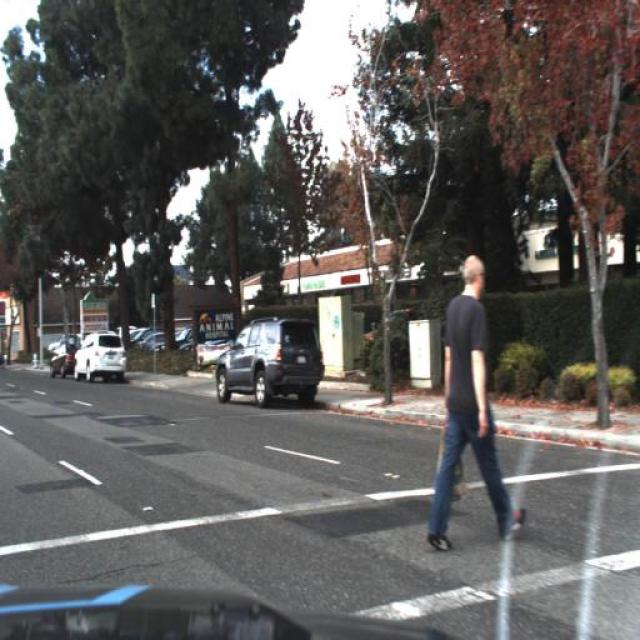car: (208, 311, 328, 413), (70, 327, 130, 388), (46, 333, 76, 388)
trafficLight: (425, 255, 529, 554)
